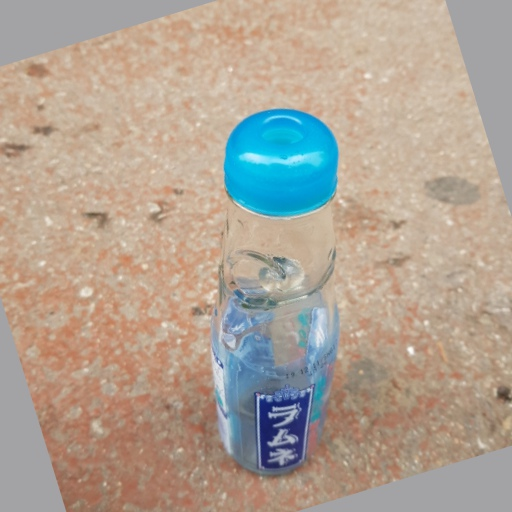Glass_4: (204, 104, 343, 489)
